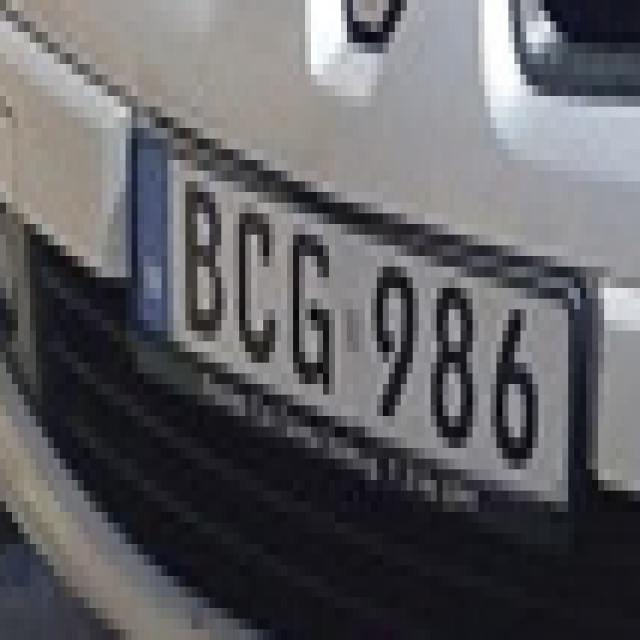6: (484, 295, 550, 482)
8: (419, 270, 479, 457)
9: (361, 256, 420, 430)
B: (178, 164, 228, 347)
G: (280, 216, 343, 400)
